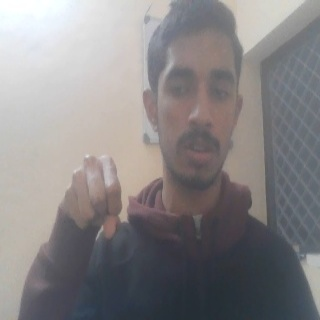Face: (141, 5, 242, 192)
Yes: (62, 150, 127, 246)
